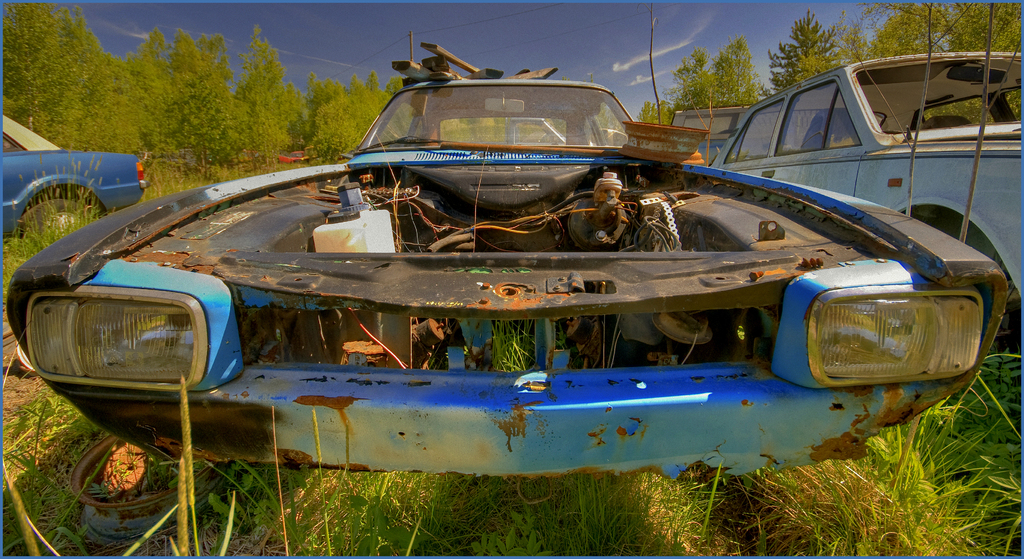Car: (28, 60, 977, 497), (705, 48, 1023, 338), (0, 109, 146, 244), (666, 103, 759, 172), (477, 115, 565, 143)
